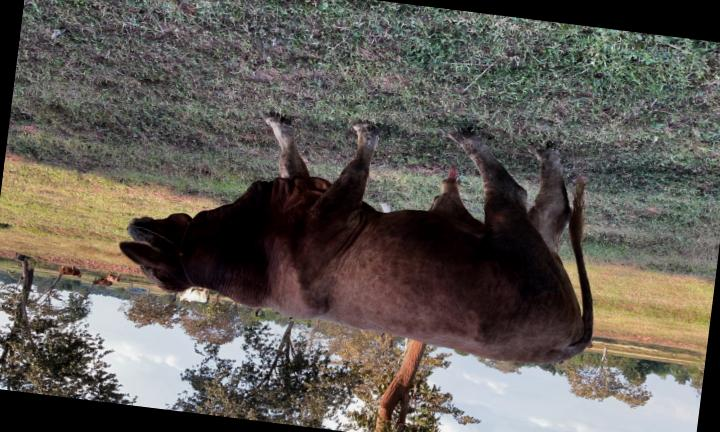Charolais: (120, 114, 592, 363)
